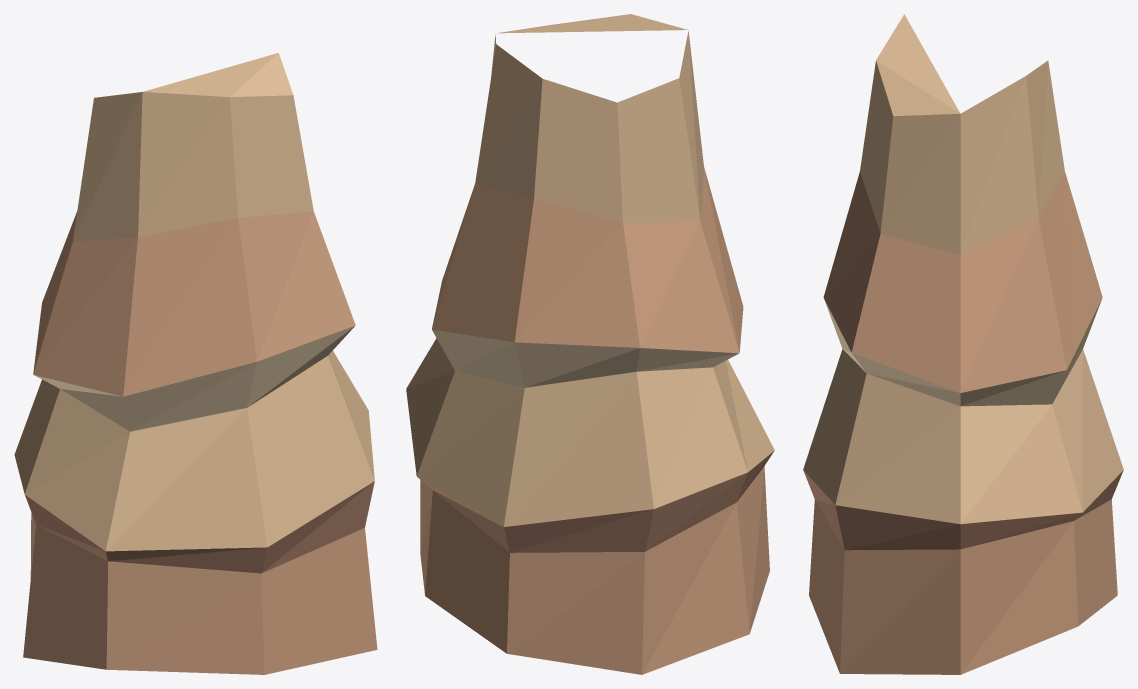
The picture shows the model from 3 angles, left to right: view 1: azimuth 30°, elevation 25°; view 2: azimuth 150°, elevation 25°; view 3: azimuth 270°, elevation 25°; orthographic projection. The views are drawn at different scales.
Size of the model in its own units: 13.02 by 20.97 by 10.8.
